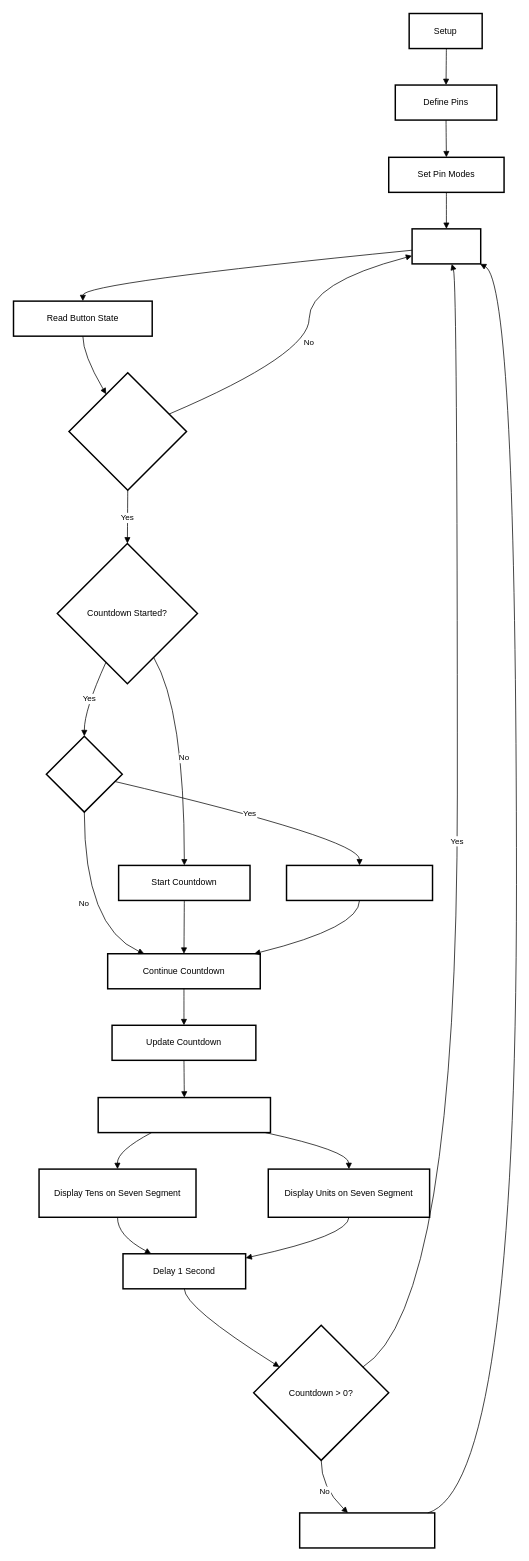
Some shapes in this 529 by 1561 pixel diagram are drawn without their labels. The shapes that lost their labels are listed below. From the top down, each one's centre as x and y in pixels, then its label:
At (446,246): "Loop".
At (127,431): "Button Pressed?".
At (84,773): "Paused?".
At (359,882): "Resume Countdown".
At (184,1114): "Calculate Tens and Units".
At (367,1530): "Pause Countdown".
